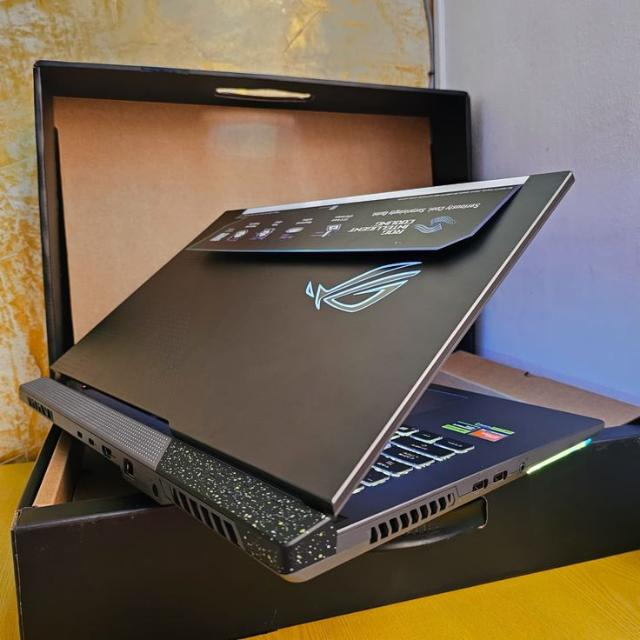laptop: (24, 158, 626, 584)
